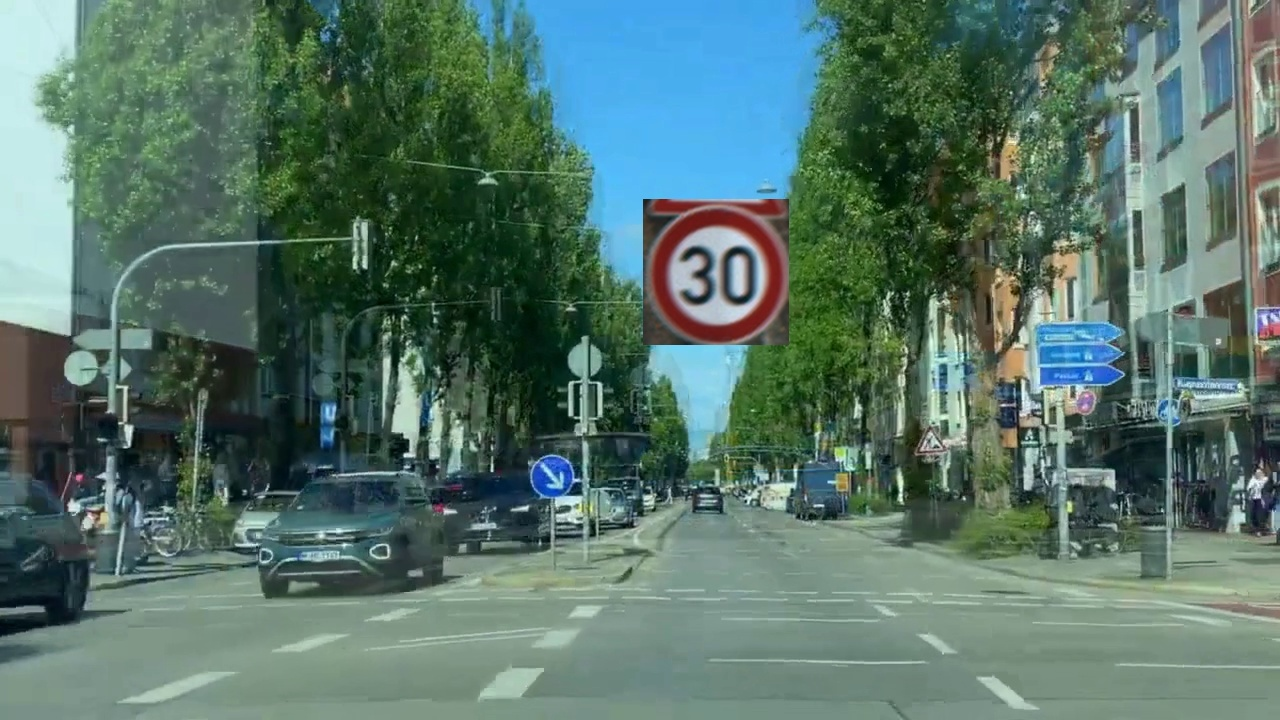Speed 30: (643, 199, 789, 345)
